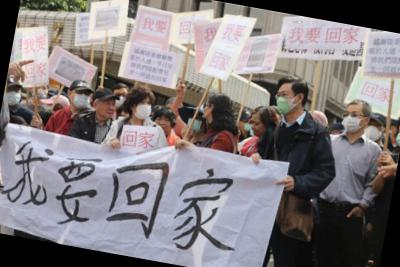with_mask: (340, 108, 367, 136), (272, 89, 297, 117), (363, 119, 386, 143), (133, 97, 154, 122), (70, 89, 93, 111), (185, 113, 206, 136), (3, 86, 23, 110), (30, 82, 51, 104), (110, 90, 130, 110), (198, 103, 213, 128), (242, 119, 254, 133), (395, 127, 400, 147)
without_mask: (96, 97, 119, 122), (153, 114, 173, 137), (249, 119, 266, 140)
